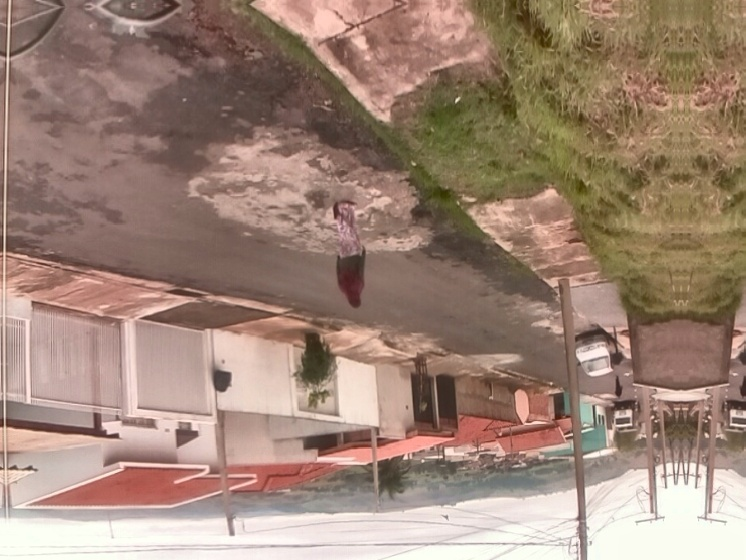person: (332, 200, 366, 308), (614, 374, 746, 400)
